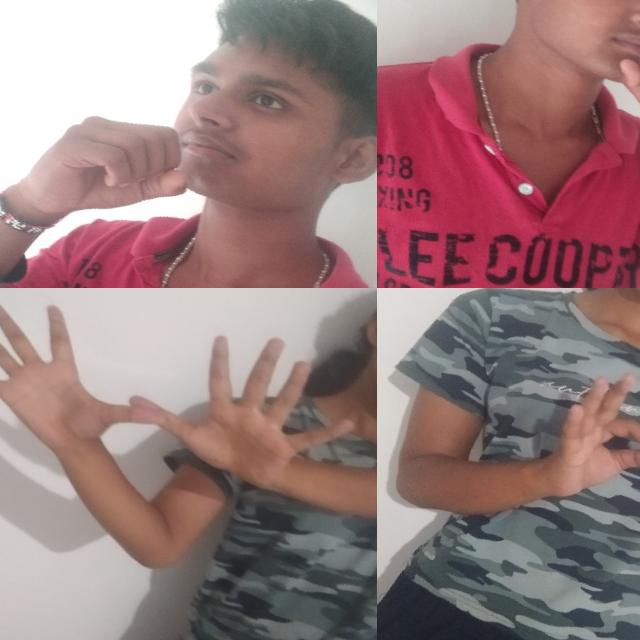Fist Mouth: (0, 0, 377, 288), (443, 0, 640, 184)
Moutza: (104, 297, 377, 520), (0, 288, 200, 479)
Okay: (522, 356, 640, 546)
